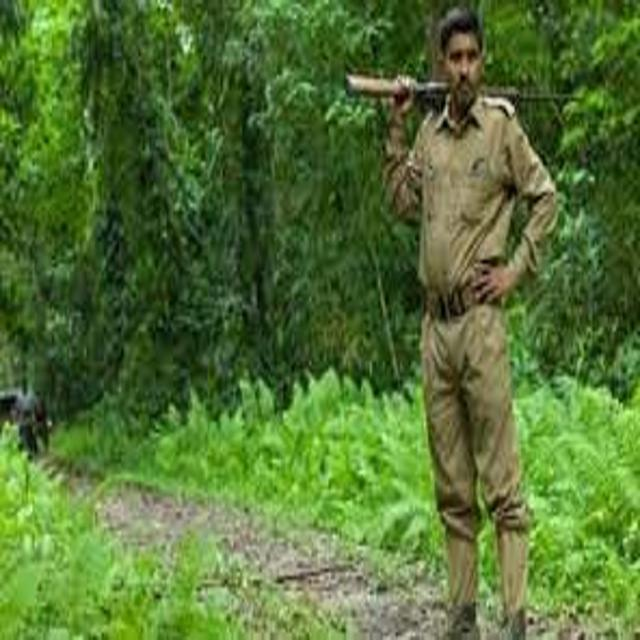gun: (310, 47, 609, 151)
ranger: (328, 4, 607, 639)
